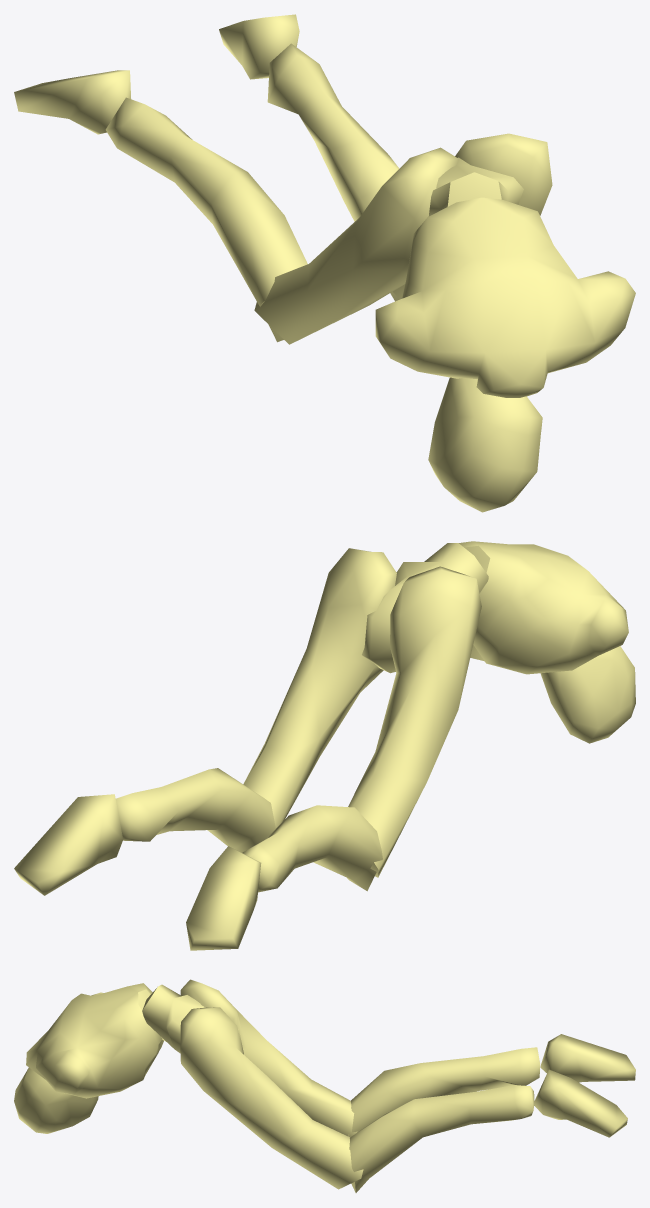
The model's file is filth39.obj.
3 renders of one model, top to bottom at view 1: azimuth 30°, elevation 25°; view 2: azimuth 150°, elevation 25°; view 3: azimuth 270°, elevation 25°, orthographic. The views are drawn at different scales.
Parts seen in each view (by area): view 1: Melee_Husk; view 2: Melee_Husk; view 3: Melee_Husk.
Part boxes in pixels (x1,y1,x2,y2): Melee_Husk: (14, 14, 635, 512); Melee_Husk: (14, 541, 635, 950); Melee_Husk: (14, 979, 635, 1192).
Size of the model in its own units: 25.43 by 22.49 by 71.95.
